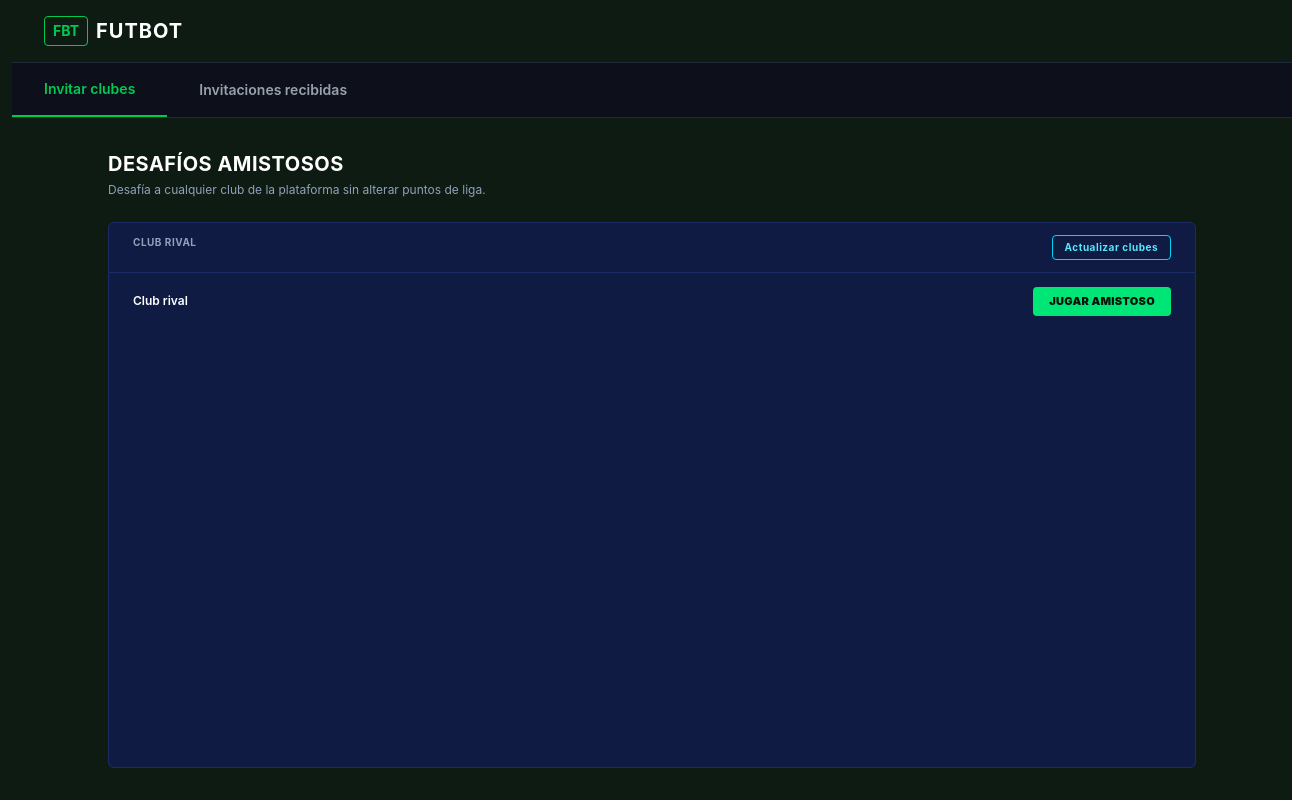
Test: DesafiosAmistosos › muestra inmediatamente una invitación recibida por WebSocket
Click the button "Invitaciones recibidas" at (273, 90), box [167,63,379,117]
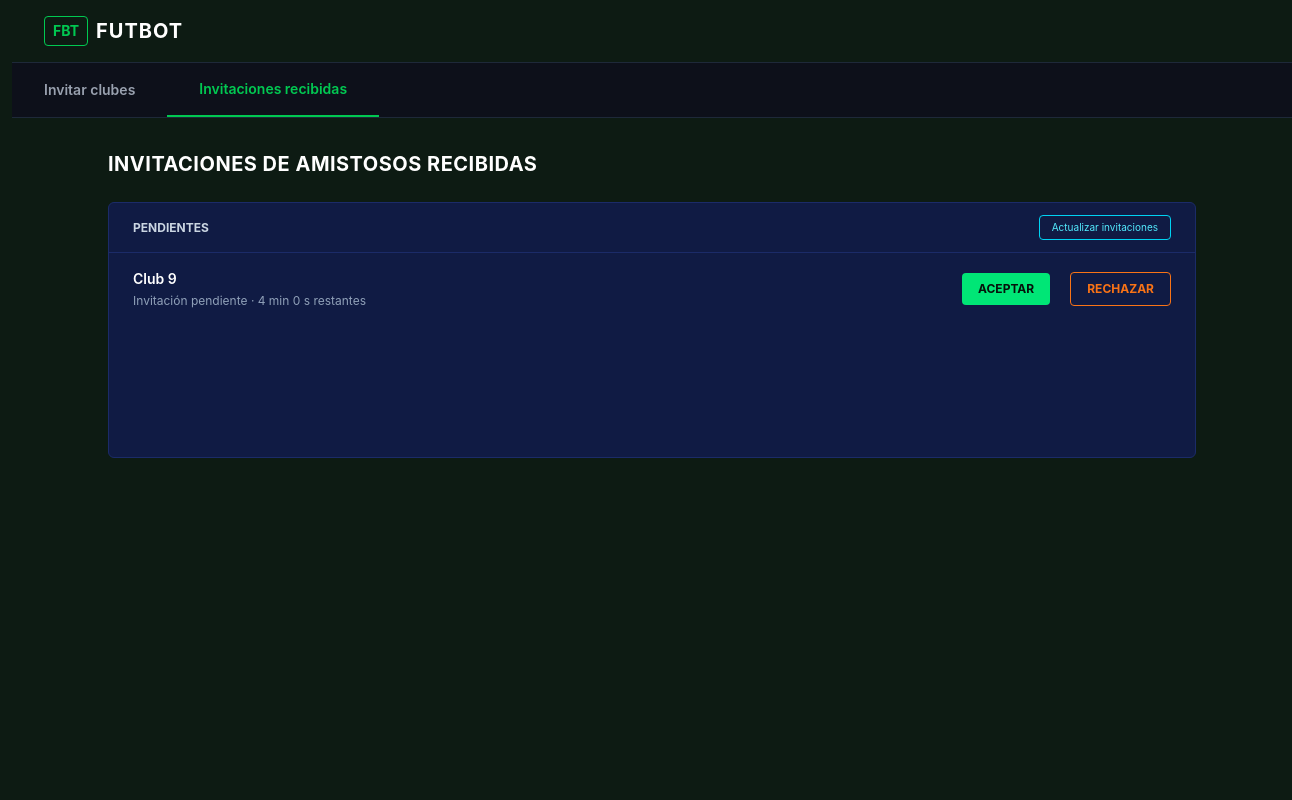
Check: the heading "Club 9" is shown, box [133,270,177,287]
Check: the text "Invitación pendiente · 4 min 0 s restantes" is shown, box [133,293,366,309]
